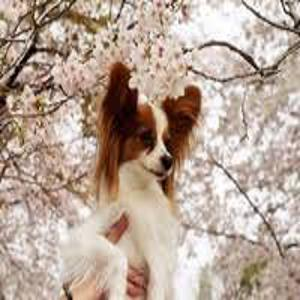yell: (60, 61, 201, 300)
